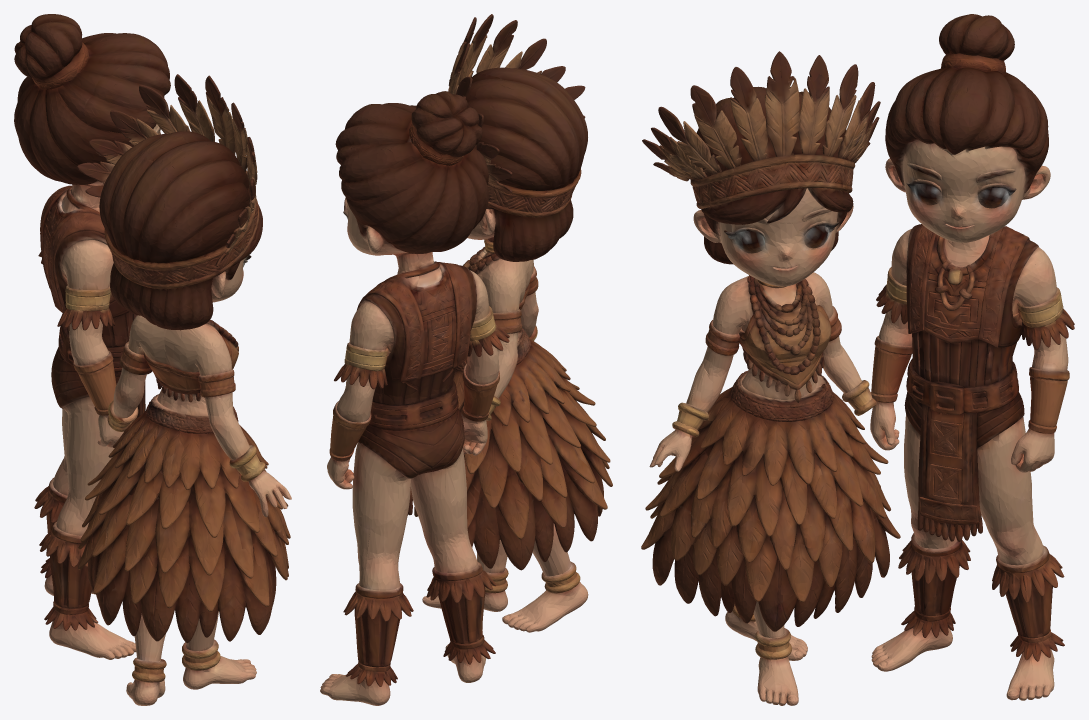
The model's file is vanlang5.glb.
3 views of the same model, side by side, from view 1: azimuth 30°, elevation 25°; view 2: azimuth 150°, elevation 25°; view 3: azimuth 270°, elevation 25° (orthographic). The views are drawn at different scales.
Visible parts, largest first — view 1: tripo_node_c34e290f-c120-4ebd-8921-50fb8828e4ae; view 2: tripo_node_c34e290f-c120-4ebd-8921-50fb8828e4ae; view 3: tripo_node_c34e290f-c120-4ebd-8921-50fb8828e4ae.
Part boxes in pixels (x1=…): tripo_node_c34e290f-c120-4ebd-8921-50fb8828e4ae: x1=14, y1=14, x2=291, y2=705; tripo_node_c34e290f-c120-4ebd-8921-50fb8828e4ae: x1=320, y1=14, x2=612, y2=705; tripo_node_c34e290f-c120-4ebd-8921-50fb8828e4ae: x1=641, y1=14, x2=1074, y2=705.
Size of the model in its own units: 0.3226 by 0.9796 by 0.605.
1 material, 1 textured.
